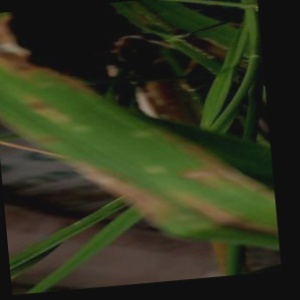Brown_Spot: (67, 145, 175, 237), (176, 141, 272, 199), (0, 7, 64, 77), (21, 90, 82, 130)
